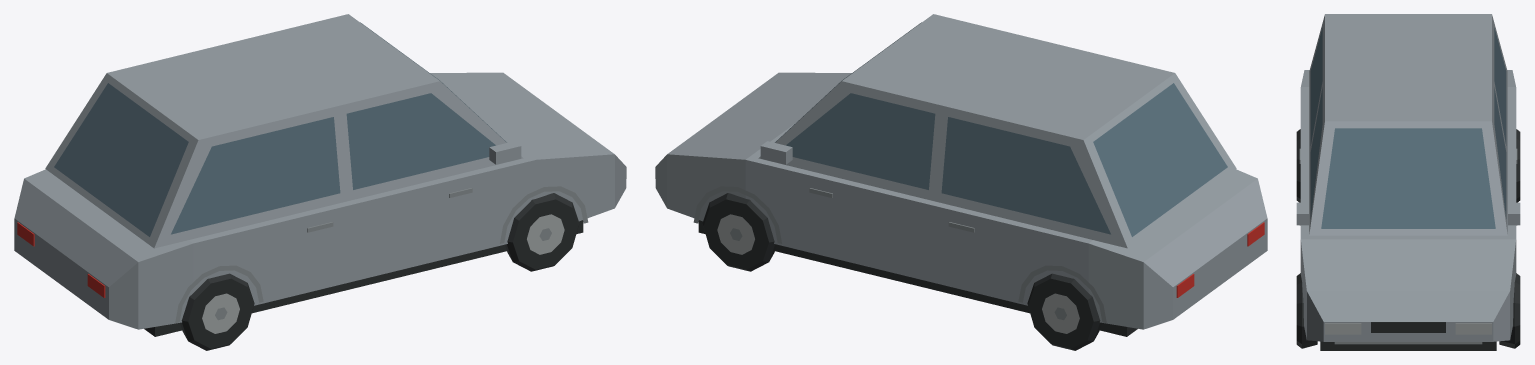
The model's file is SM_MPR3_Car_1_LOD1.fbx.
3 views of the same model, side by side, from view 1: azimuth 30°, elevation 25°; view 2: azimuth 150°, elevation 25°; view 3: azimuth 270°, elevation 25° (orthographic). The views are drawn at different scales.
Visible parts, largest first — view 1: SM_MPR3_Car_1_LOD1; view 2: SM_MPR3_Car_1_LOD1; view 3: SM_MPR3_Car_1_LOD1.
Boxes of the visible parts, x1,y1,x2,y2 form: SM_MPR3_Car_1_LOD1: [14, 14, 626, 350]; SM_MPR3_Car_1_LOD1: [655, 14, 1267, 350]; SM_MPR3_Car_1_LOD1: [1296, 14, 1520, 350].
Size of the model in its own units: 452 by 185 by 166.
